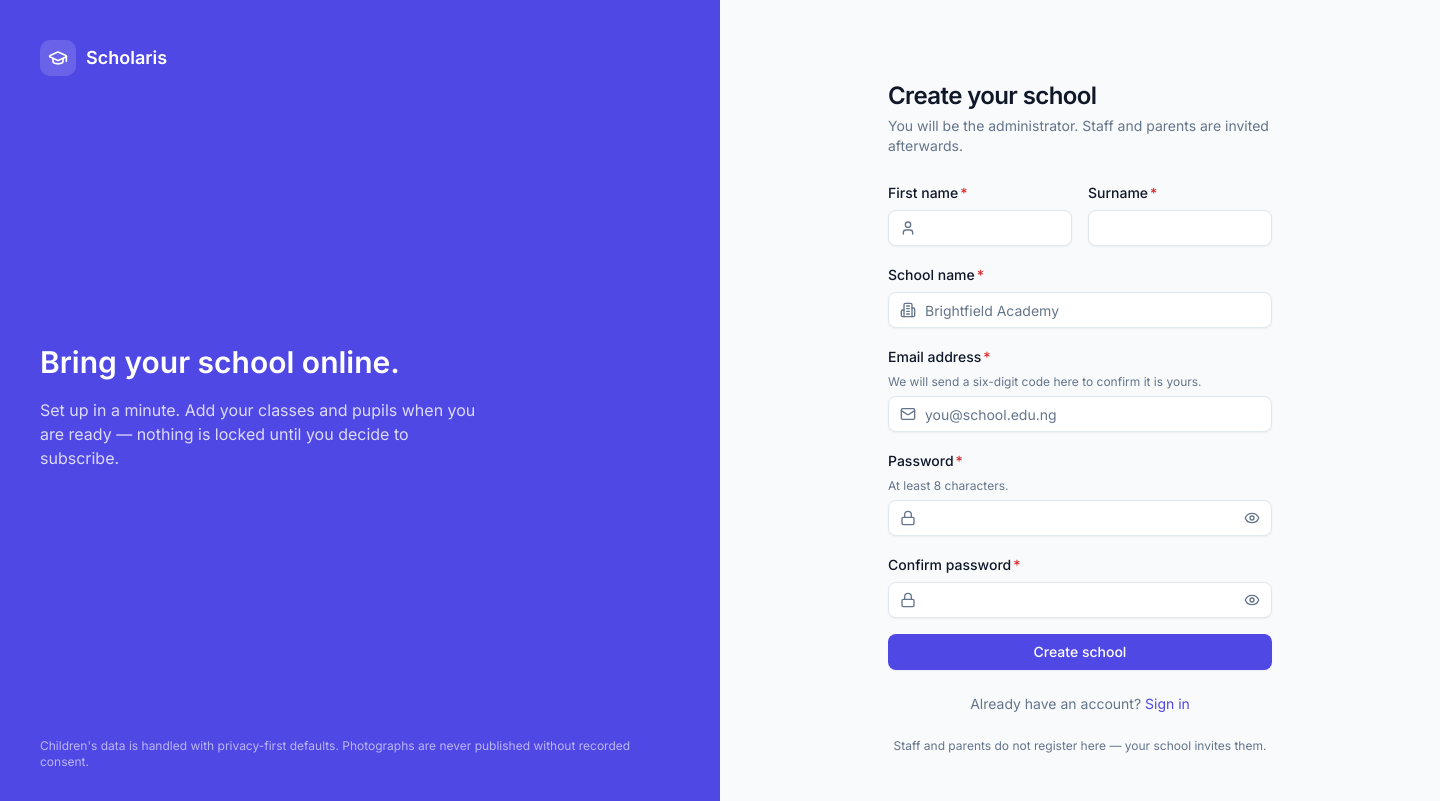
Test: SignUpPage › shows the server message when the address is already registered
The image size is (1440, 801).
Type "Ngozi" into the field labelled "First name*" at (980, 228), box [888,210,1072,246]
Type "Adeleke" into the field labelled "Surname*" at (1180, 228), box [1088,210,1272,246]
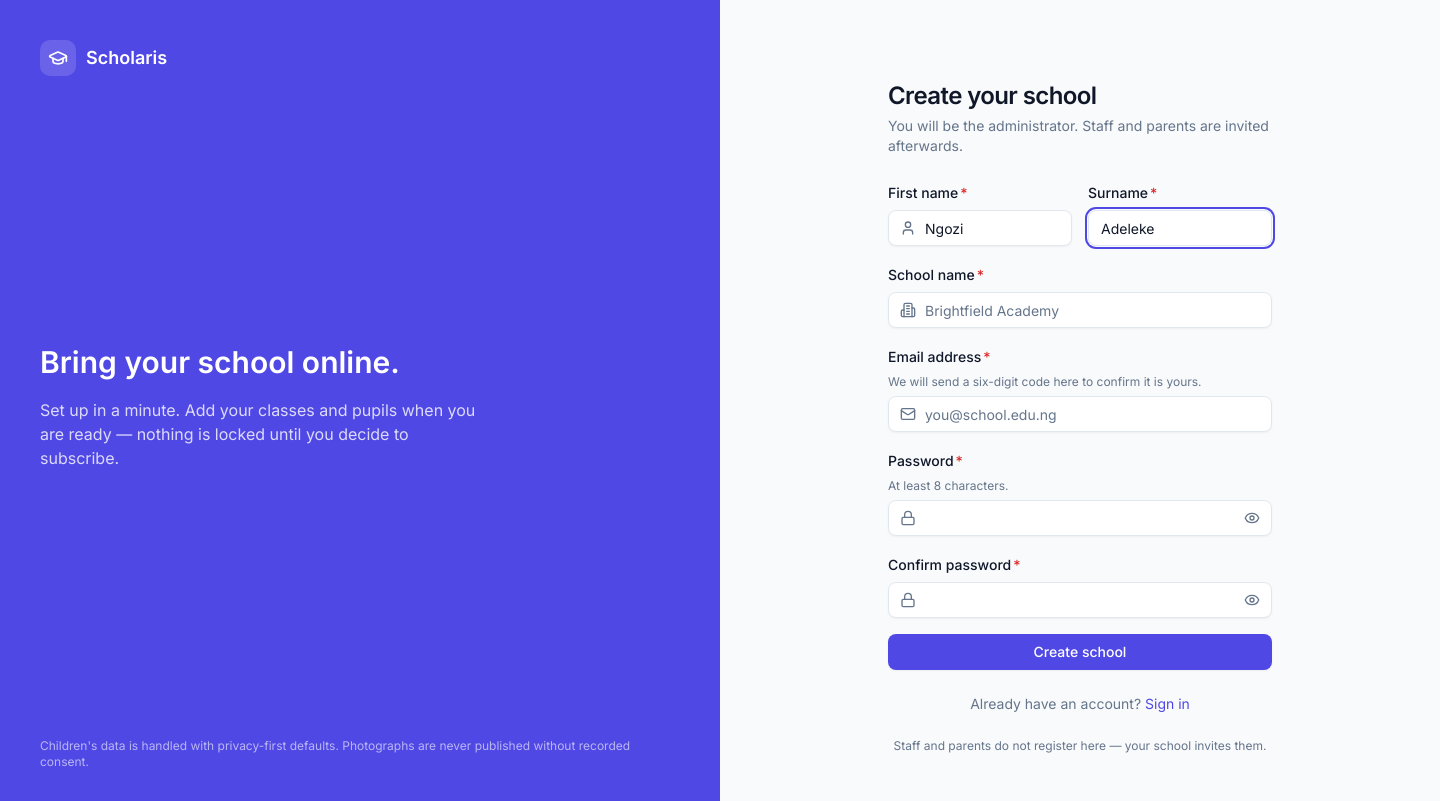
Type "Harmony International College" into the field labelled "School name*" at (1080, 310), box [888,292,1272,328]
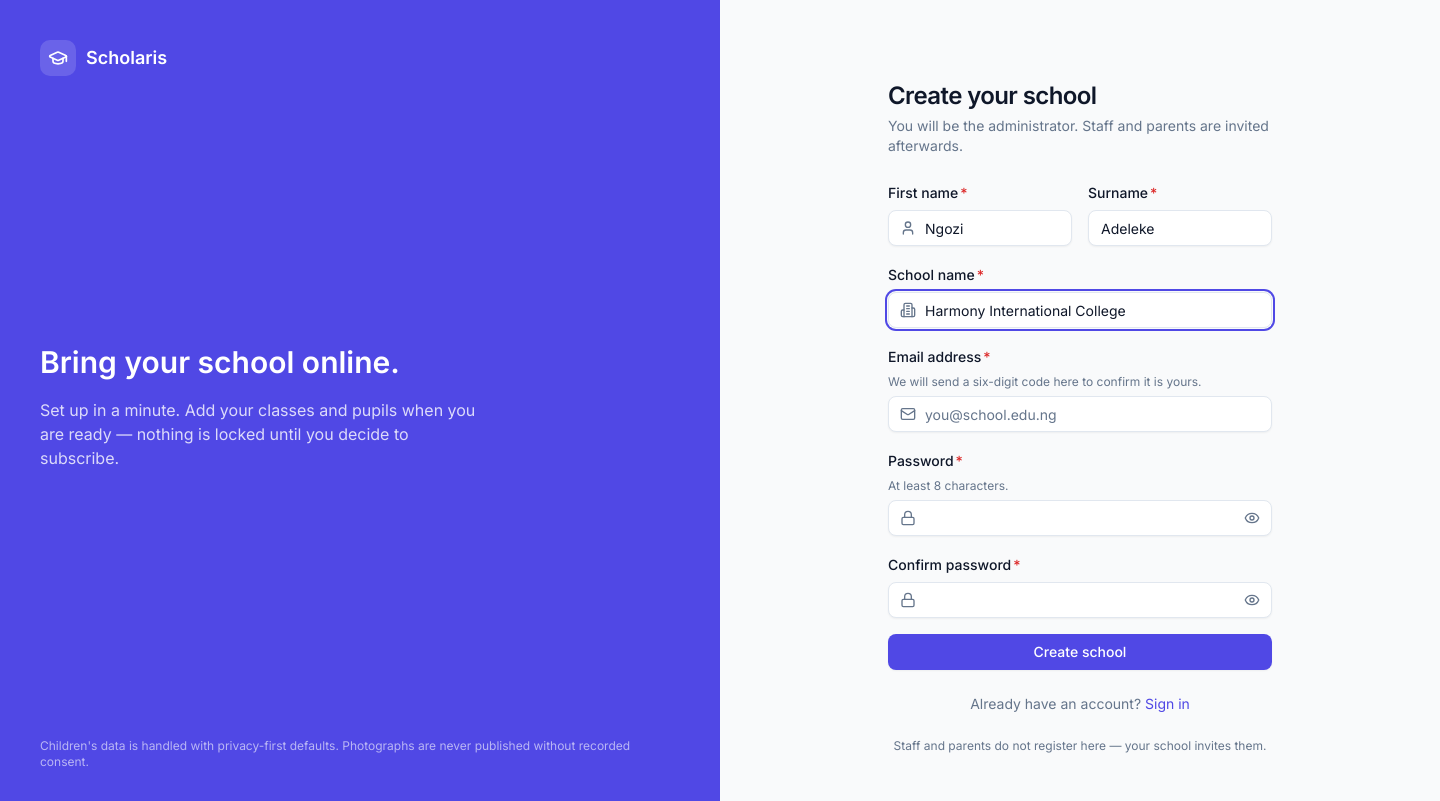
Type "ngozi@harmony.edu.ng" into the field labelled "Email address*" at (1080, 414), box [888,396,1272,432]
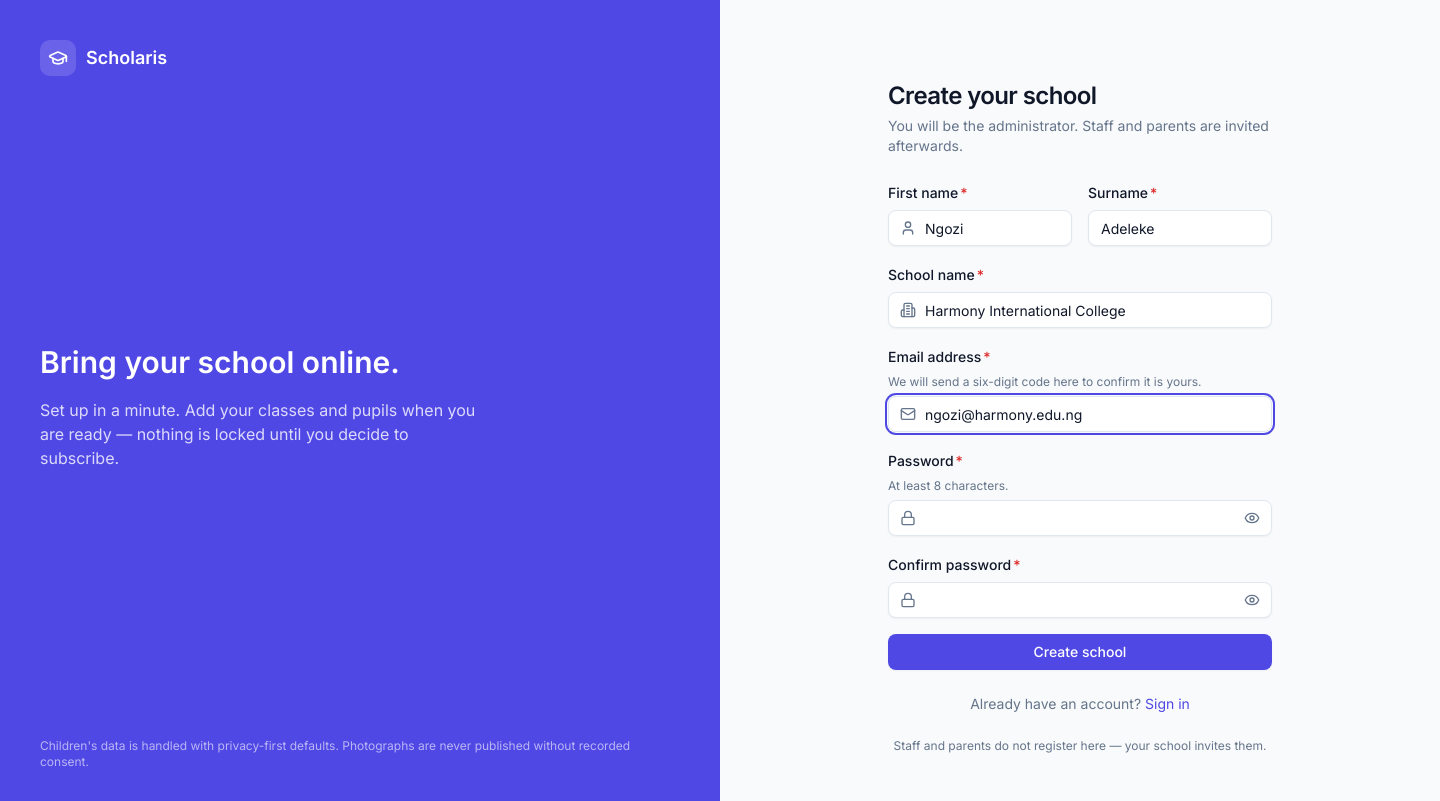
Type "correct-horse-battery" into the password field labelled "Password*" at (1080, 518), box [888,500,1272,536]
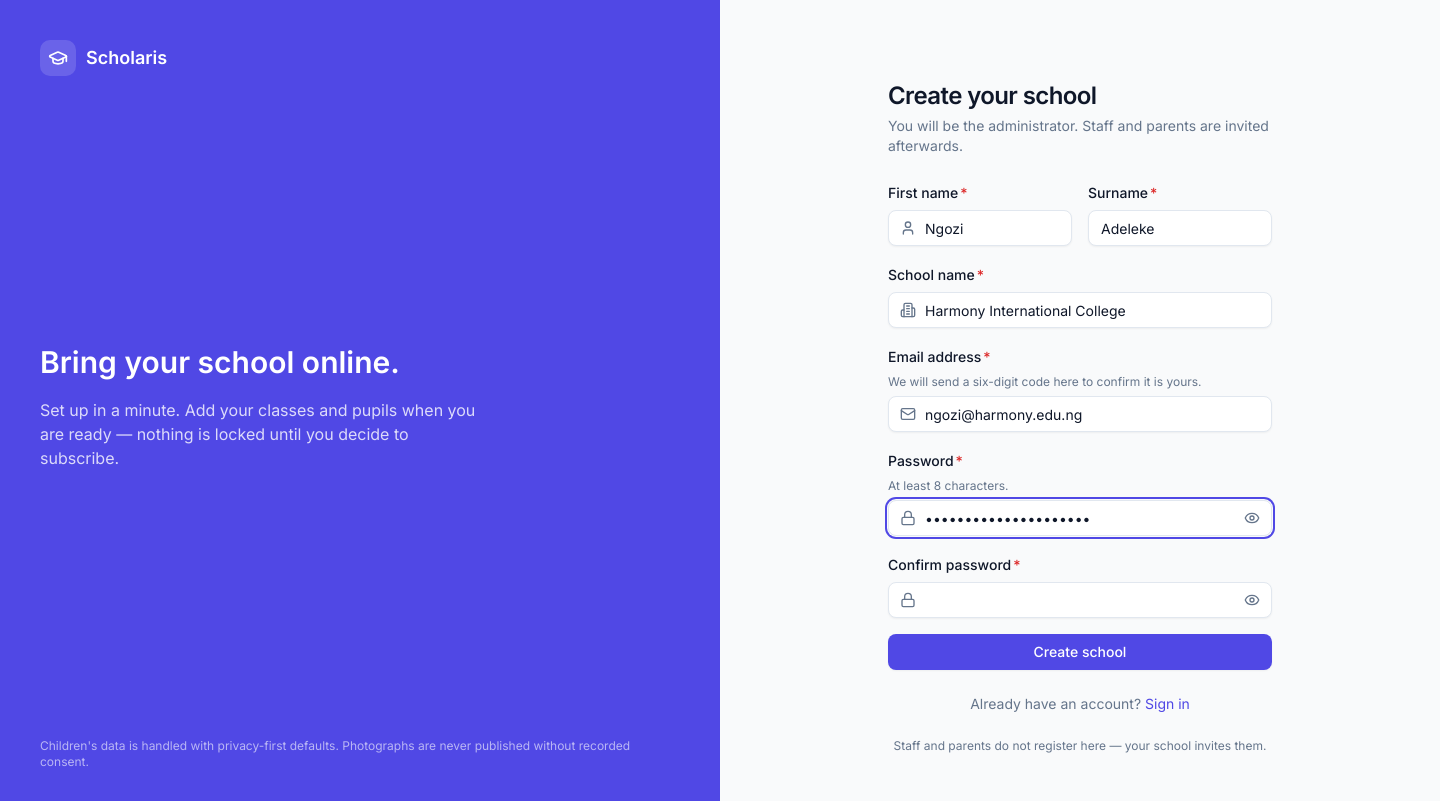
Type "correct-horse-battery" into the password field labelled "Confirm password*" at (1080, 600), box [888,582,1272,618]
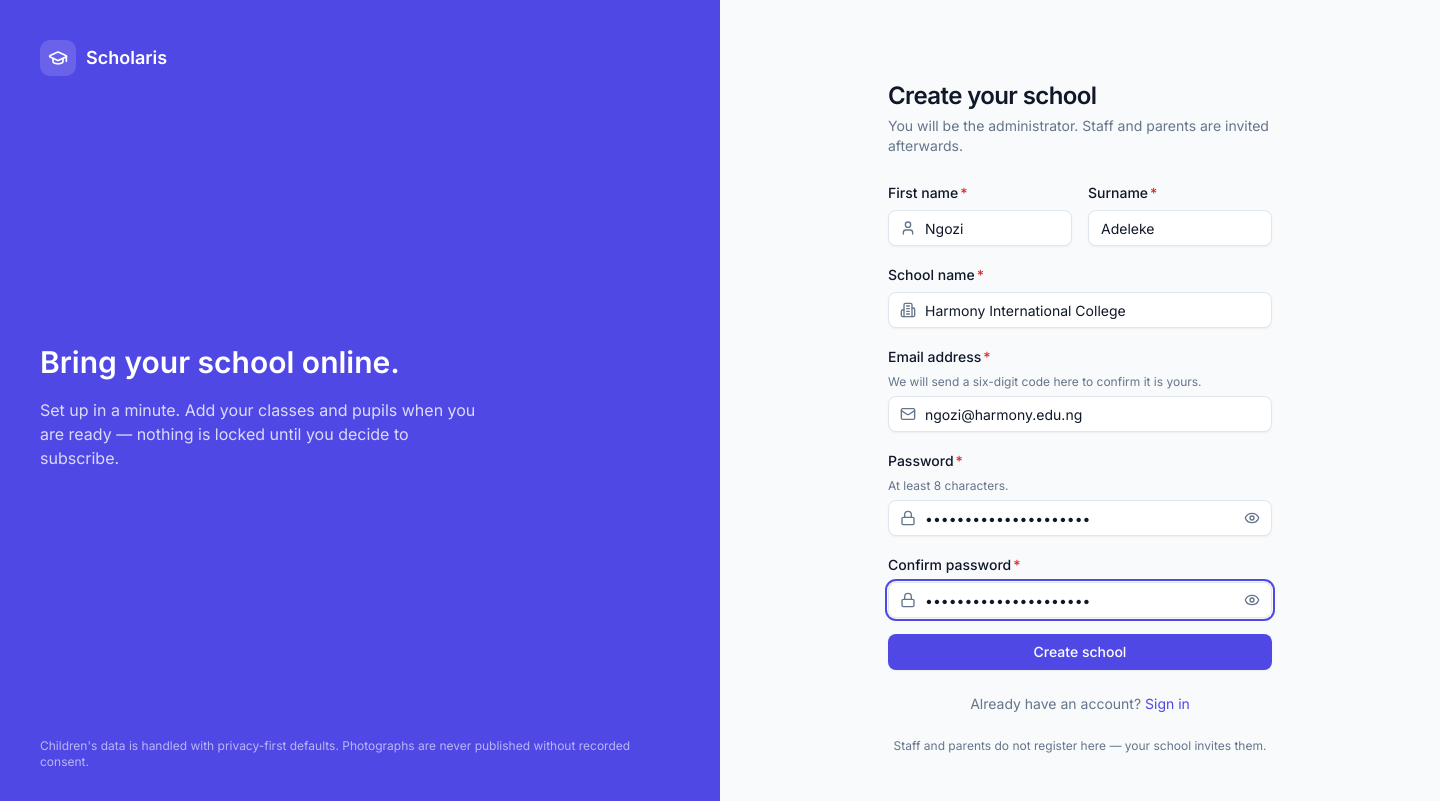
Click the button "Create school" at (1080, 652), box [888,634,1272,670]
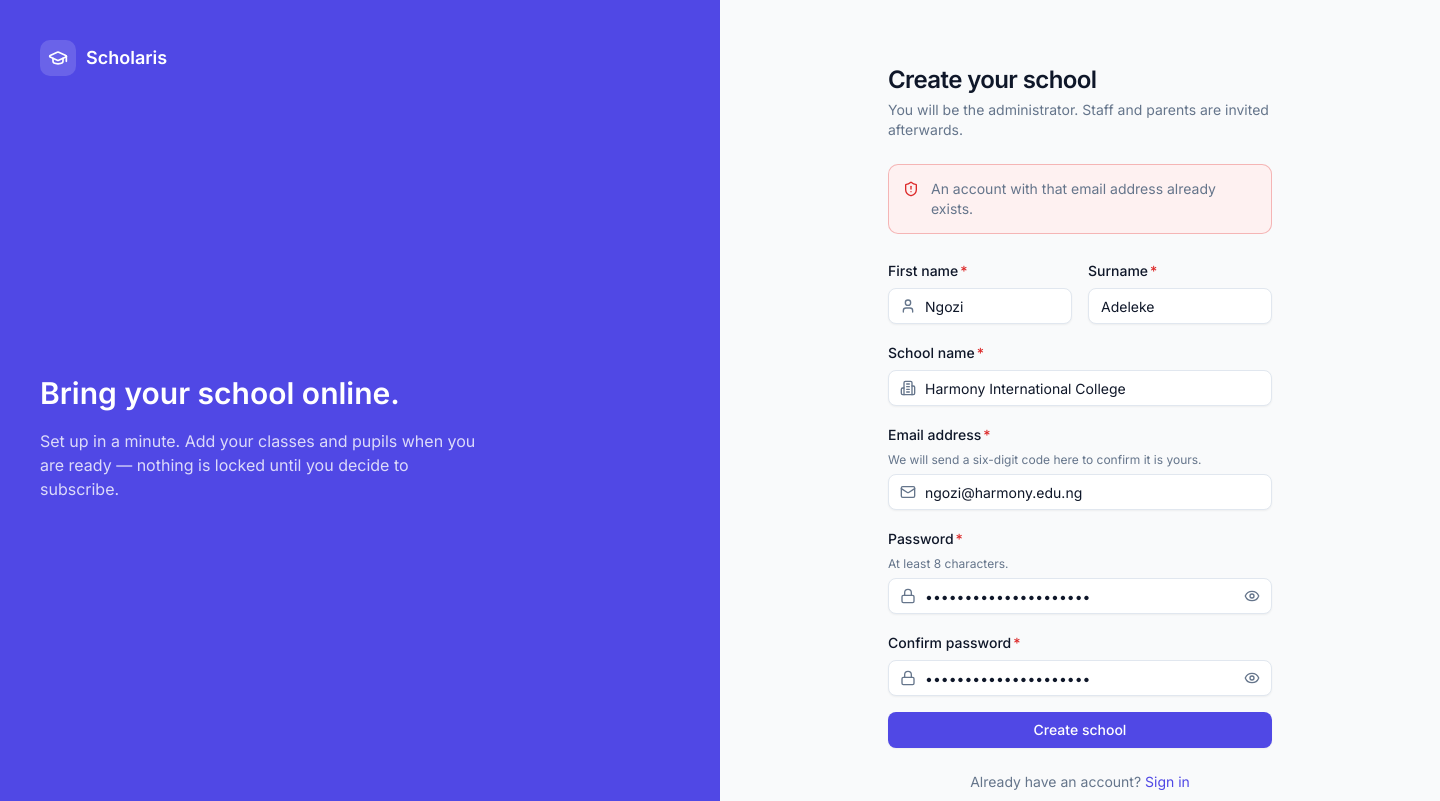
Expected: the text "An account with that email address already exists." is shown, [931,179,1257,219]
